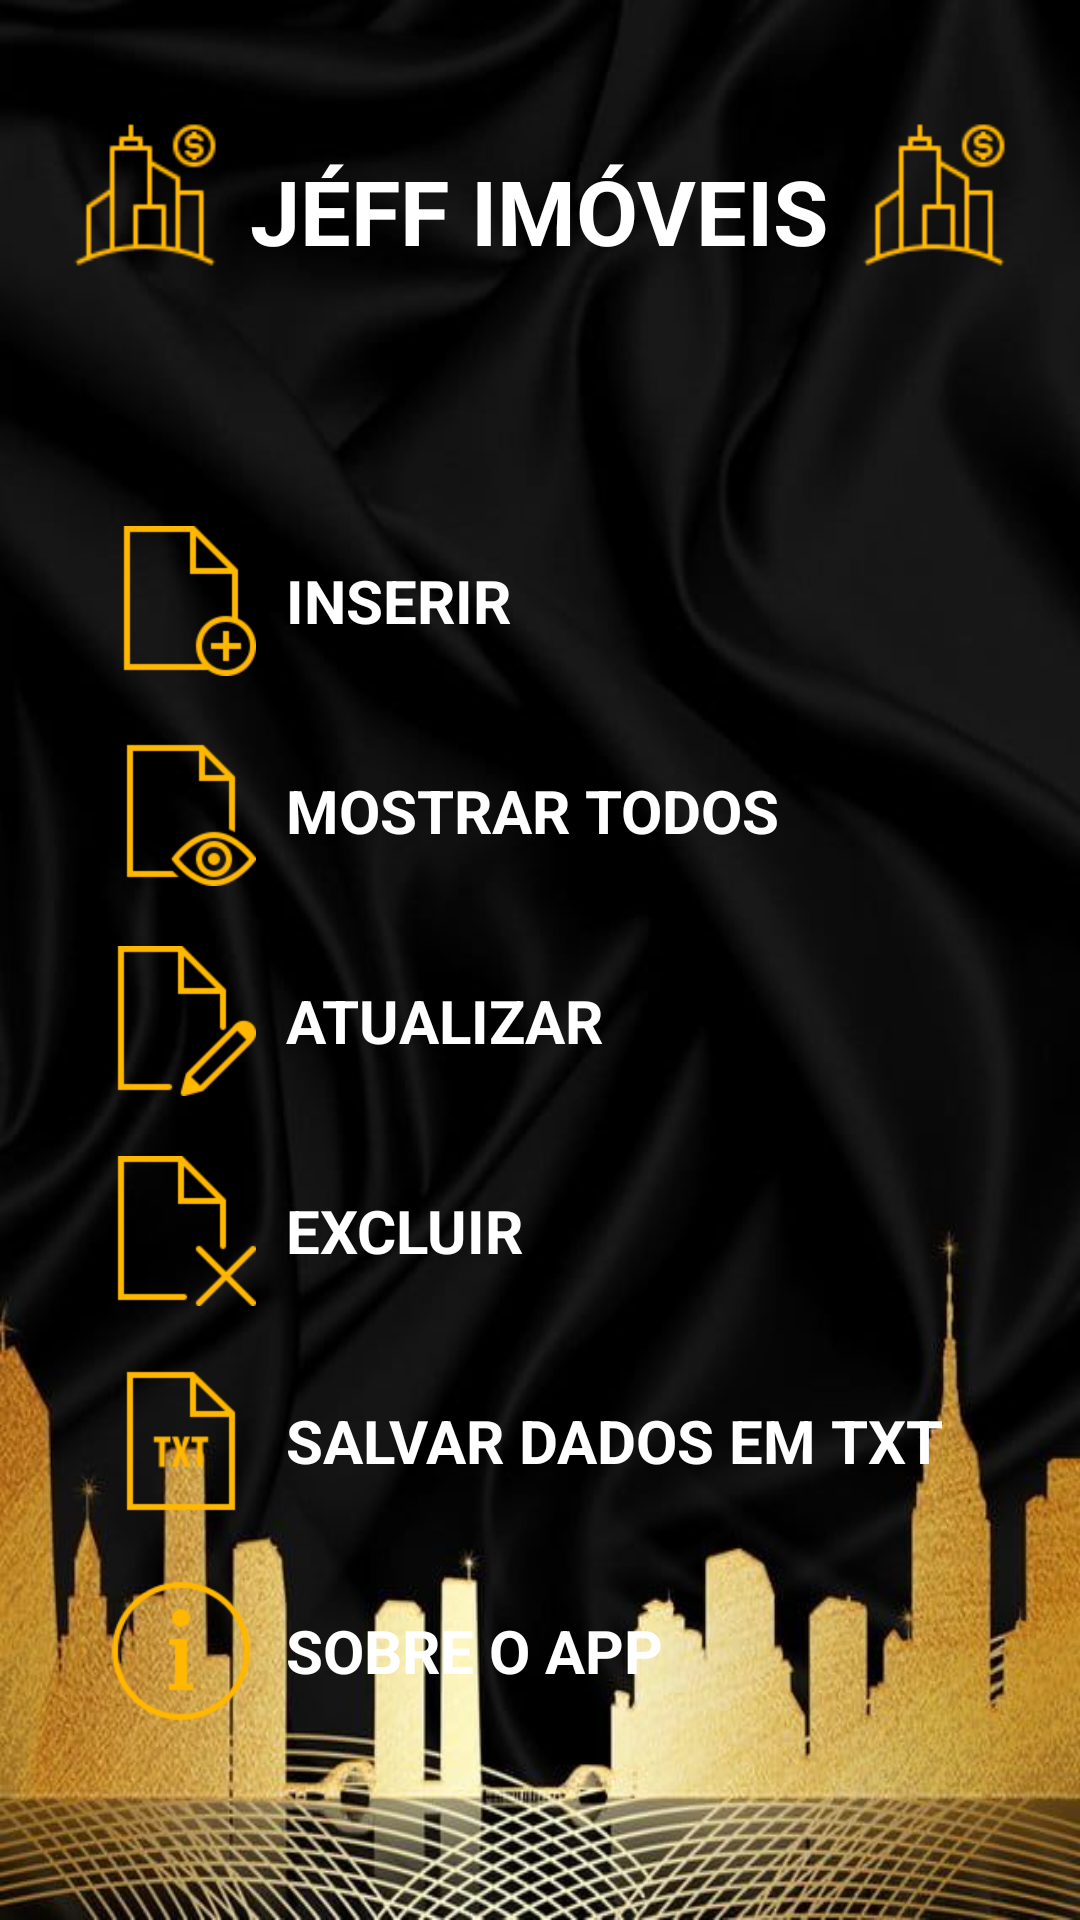

Screen size 1080px×1920px. Icon name, then its center in pixels as (x=x, y=y):
about: (x=181, y=1651)
insert: (x=181, y=601)
remove: (x=186, y=1231)
show list: (x=191, y=815)
text: (x=181, y=1443)
update: (x=186, y=1021)
